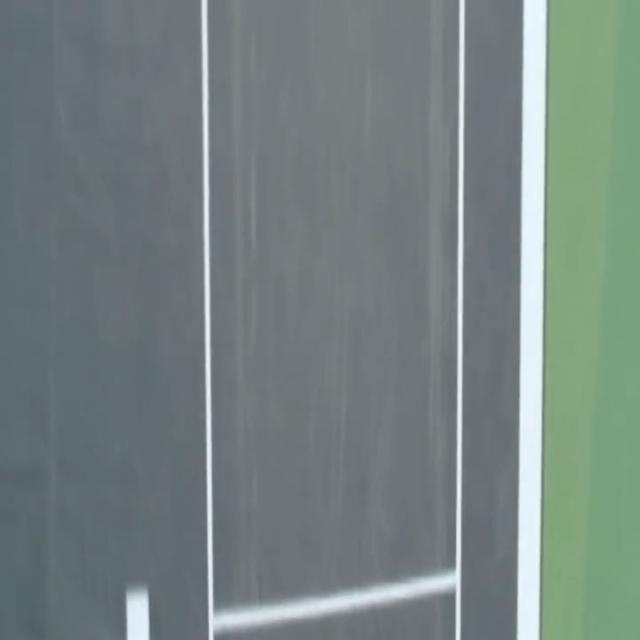center: (125, 588, 149, 639)
right: (517, 0, 547, 639)
